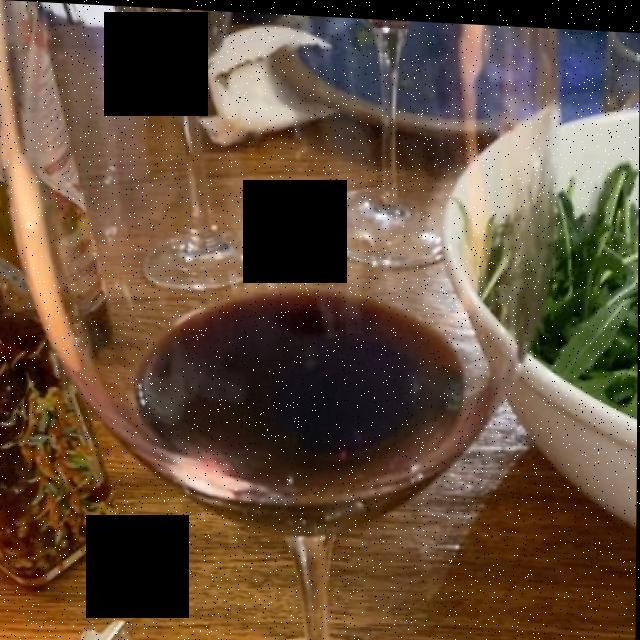wine: (138, 287, 480, 536)
